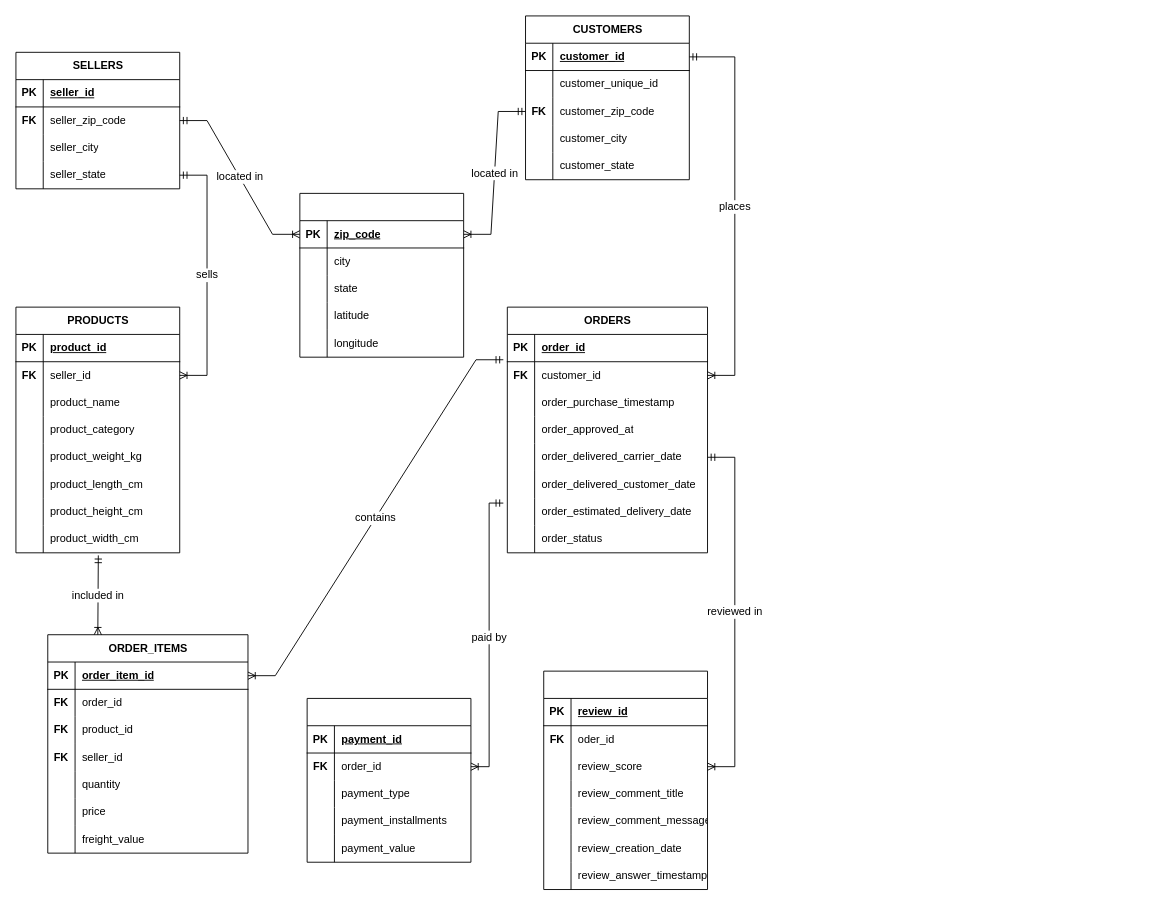
Image size: 1159x905. Some labels were removed from this diagram. Each missing label, with the box of its shape:
GEOLOCATION: (299, 192, 464, 357)
ORDER_PAYMENTS: (306, 698, 471, 862)
ORDER_REVIEWS: (543, 670, 708, 890)
